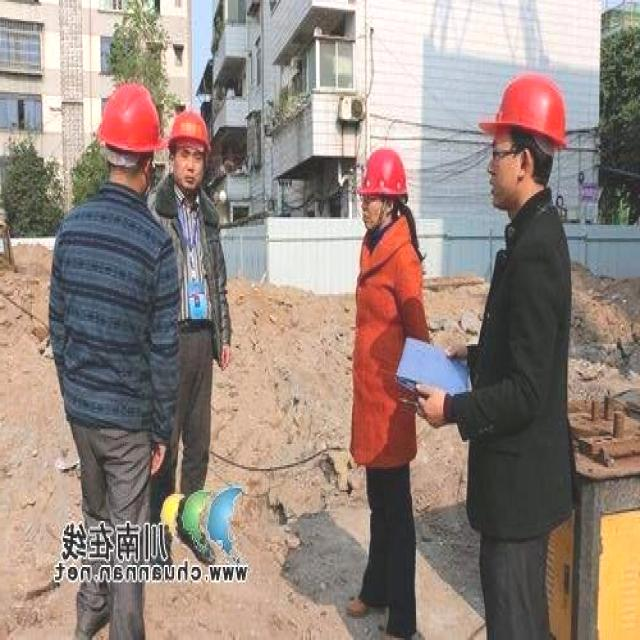face_nomask: (482, 130, 538, 203), (169, 142, 209, 186), (357, 188, 394, 234)
hand_noglove: (412, 384, 446, 428), (150, 436, 172, 481), (216, 342, 237, 373)
head_helmet: (476, 71, 572, 146), (95, 81, 161, 150), (357, 146, 411, 198), (170, 102, 212, 144)
person: (47, 78, 174, 624), (468, 69, 578, 634), (342, 144, 422, 627), (155, 113, 228, 517)
